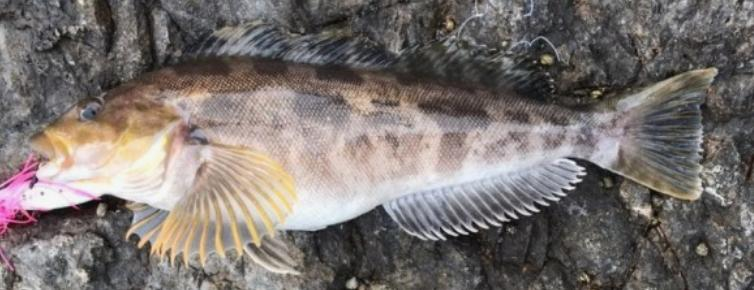fish: (28, 24, 717, 275)
